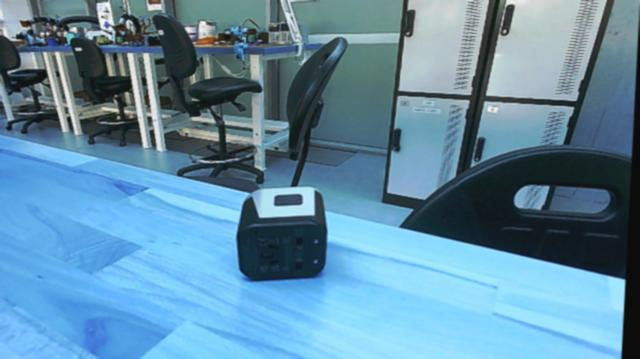adapter: (229, 183, 338, 283)
